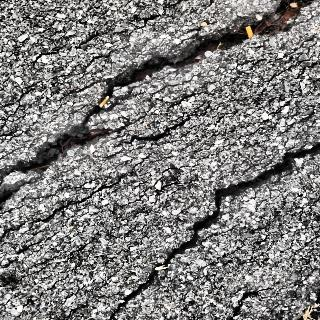crack: (112, 144, 320, 320), (107, 0, 319, 134), (1, 102, 103, 248)
